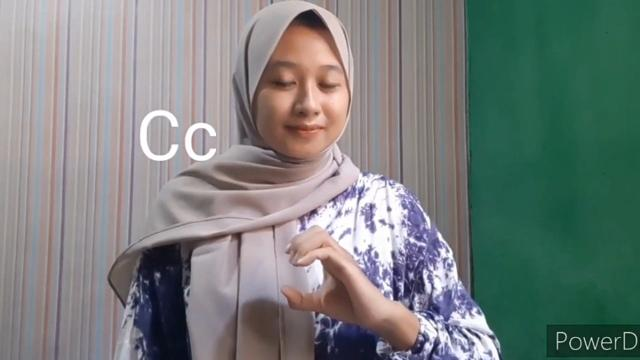C: (279, 225, 391, 337)
